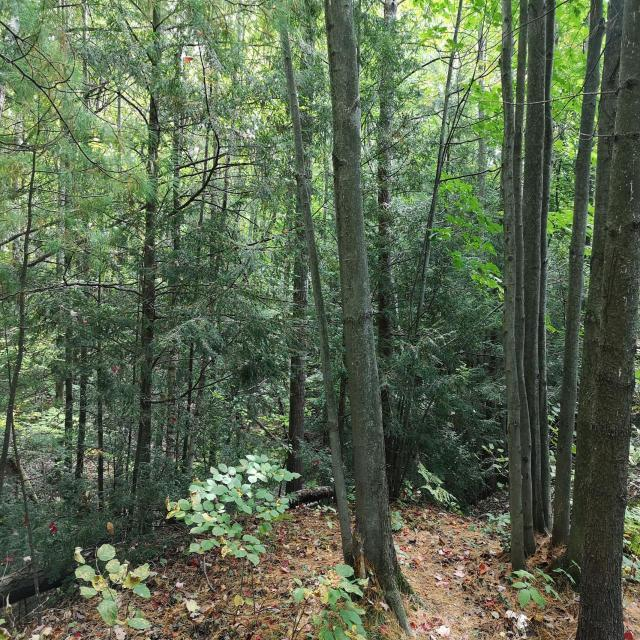fallen_object: (0, 466, 349, 632)
